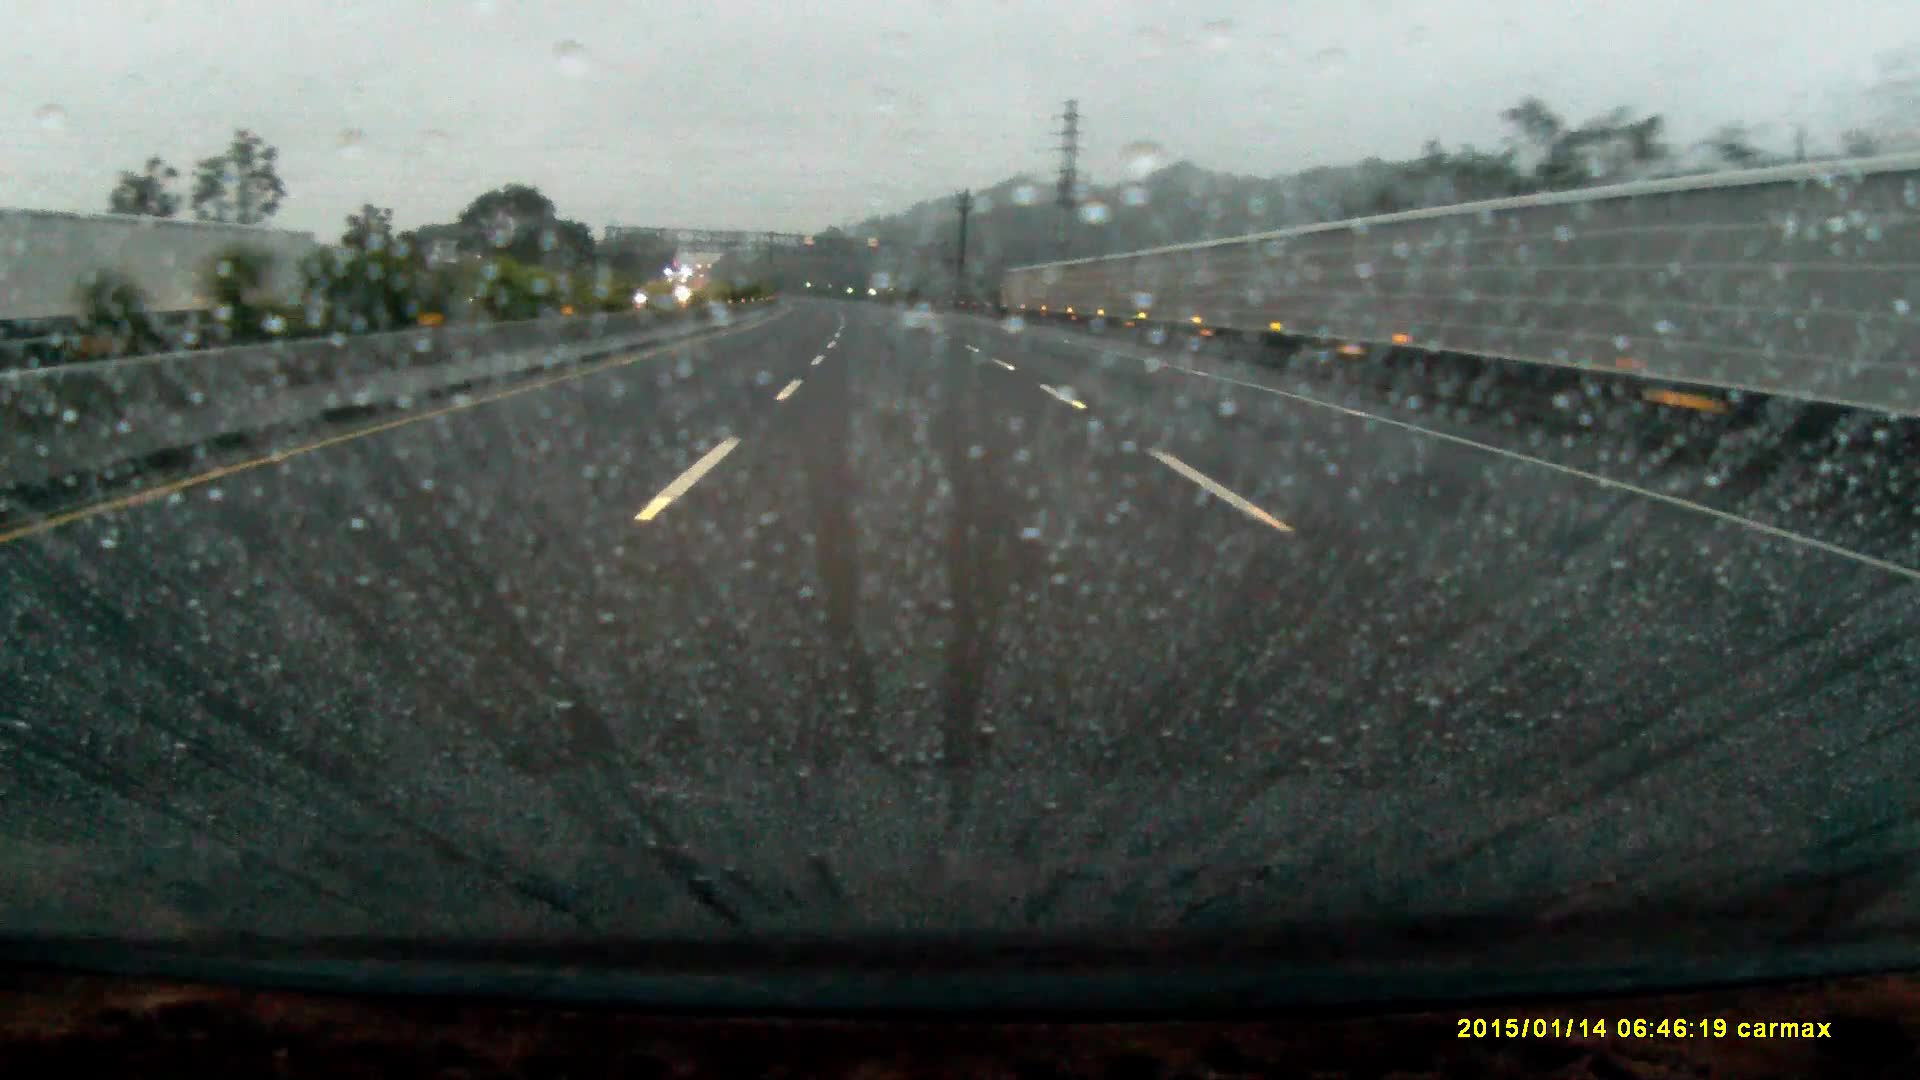vehicle: (661, 269, 698, 302)
